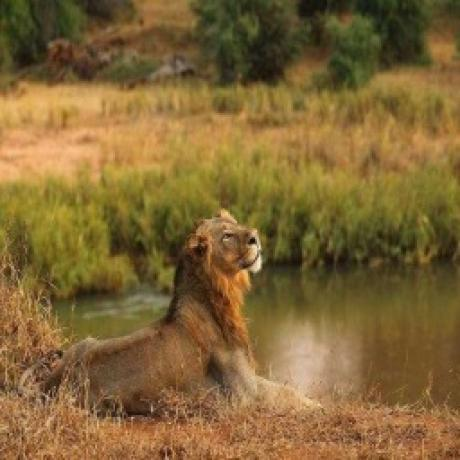Lion: (53, 210, 303, 416)
